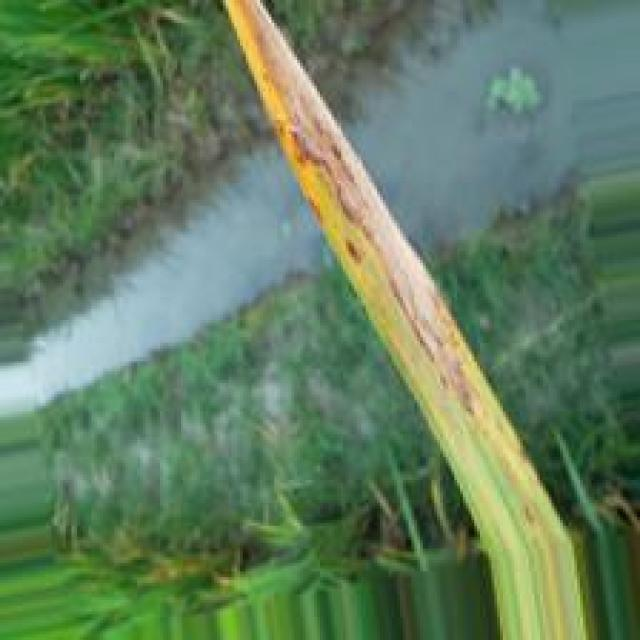Leaf_Scald: (237, 3, 480, 422)
